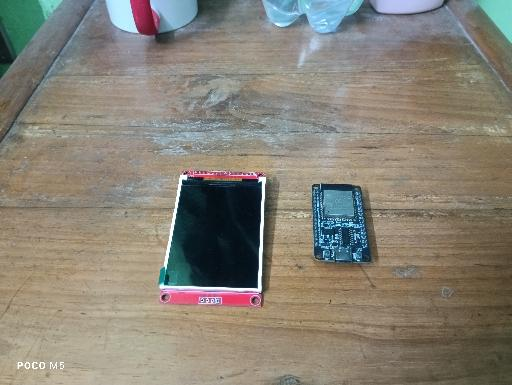Display: (158, 168, 267, 310)
Esp32: (310, 182, 372, 265)
